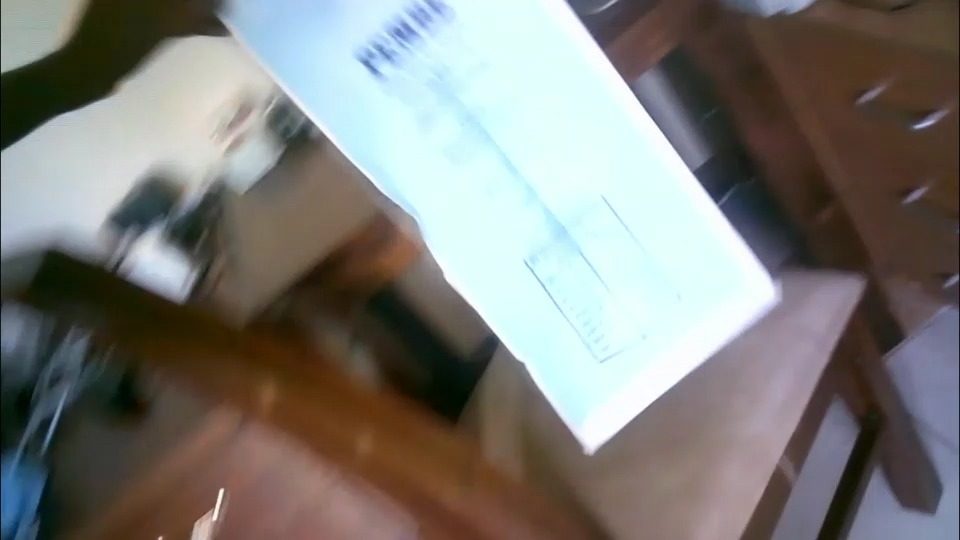wheat_flour_blue_label: (222, 2, 780, 450)
